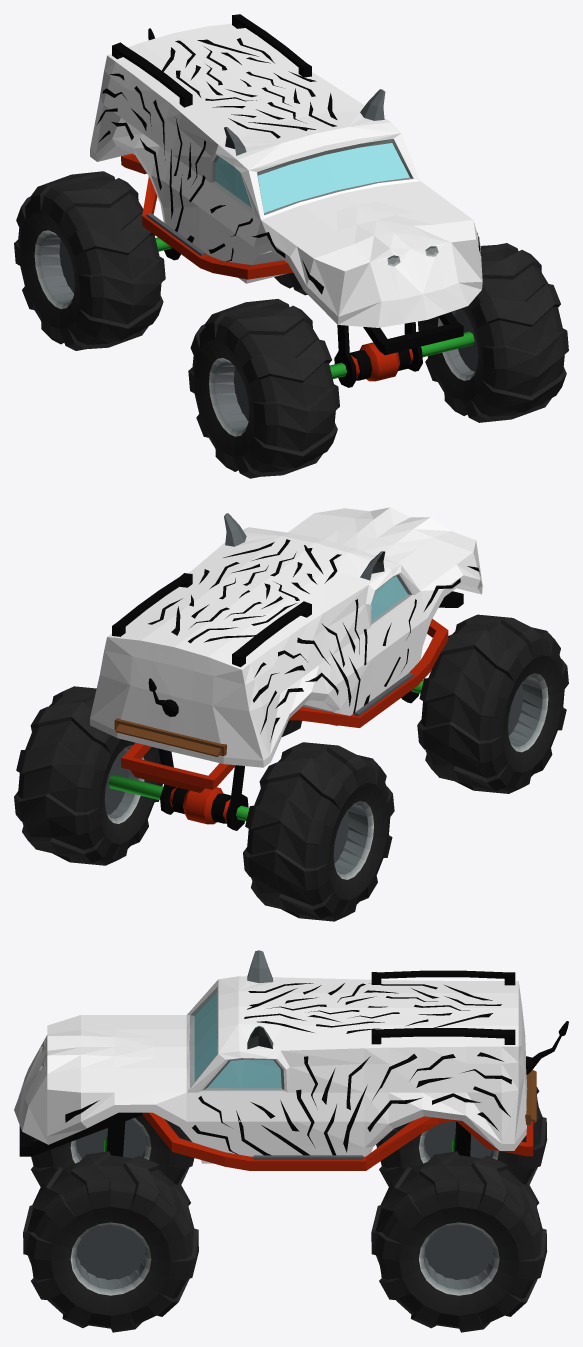
Rendered from truck 1.fbx.
3 renders of one model, top to bottom at view 1: azimuth 30°, elevation 25°; view 2: azimuth 150°, elevation 25°; view 3: azimuth 270°, elevation 25°, orthographic.
Visible parts, largest first — view 1: truck 1, Wheel_FR_14_Zebra_0, Wheel_RR_14_Zebra_0, Wheel_FL_14_Zebra_0; view 2: truck 1, Wheel_RR_14_Zebra_0, Wheel_FR_14_Zebra_0, Wheel_RL_14_Zebra_0; view 3: truck 1, Wheel_FL_14_Zebra_0, Wheel_RL_14_Zebra_0, Wheel_FR_14_Zebra_0, Wheel_RR_14_Zebra_0.
Boxes of the visible parts, x1,y1,x2,y2 form: truck 1: (90,14,482,387); Wheel_FR_14_Zebra_0: (188,299,339,478); Wheel_RR_14_Zebra_0: (14,171,165,350); Wheel_FL_14_Zebra_0: (418,243,568,422); truck 1: (90,507,482,830); Wheel_RR_14_Zebra_0: (243,742,394,921); Wheel_FR_14_Zebra_0: (417,614,568,793); Wheel_RL_14_Zebra_0: (14,686,162,865); truck 1: (14,950,568,1170); Wheel_FL_14_Zebra_0: (23,1151,198,1332); Wheel_RL_14_Zebra_0: (371,1151,547,1332); Wheel_FR_14_Zebra_0: (31,1115,194,1186); Wheel_RR_14_Zebra_0: (376,1087,547,1186).
Bounding box in the file's own units: 33.9 × 29.17 × 52.93.
Materials: 1 (1 with a texture image).
